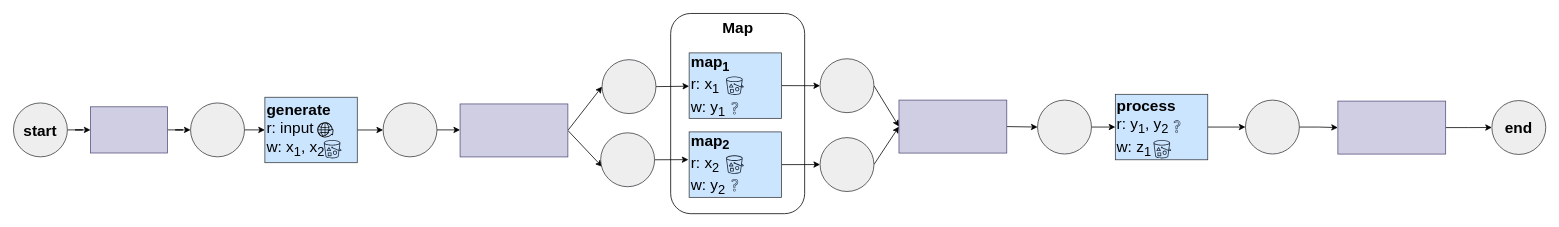
This 1559x227 diagram has some shape labels left out. Each missing label, with the centre of its shape:
"c 0" goes at point (128, 129).
"Enter Phase 1 c 0" goes at point (513, 130).
"Enter Phase 2 c 0" goes at point (952, 126).
"Enter Phase 3 c 0" goes at point (1391, 127).
